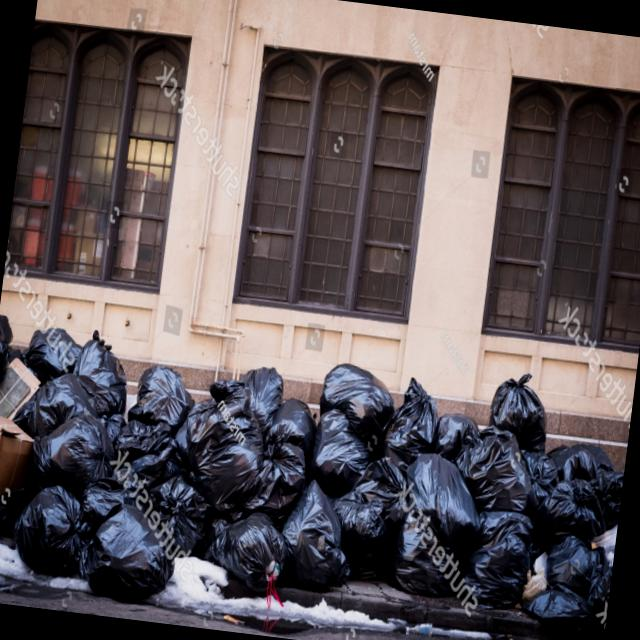garbage: (0, 295, 636, 640)
